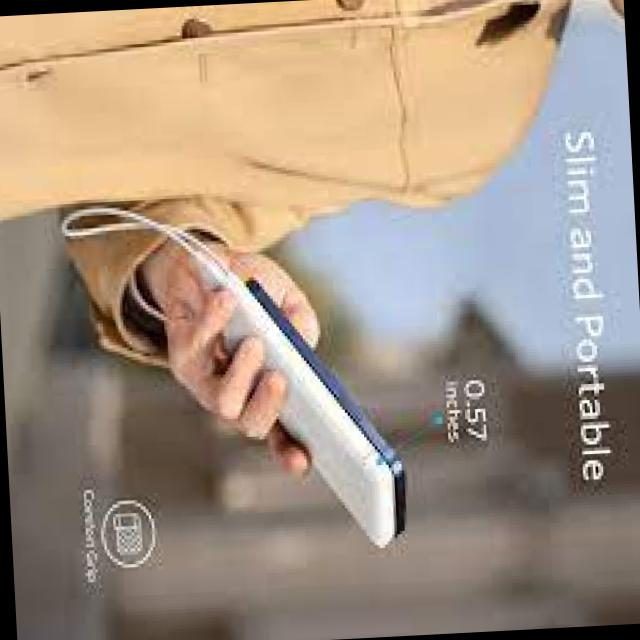power_bank: (212, 267, 396, 556)
